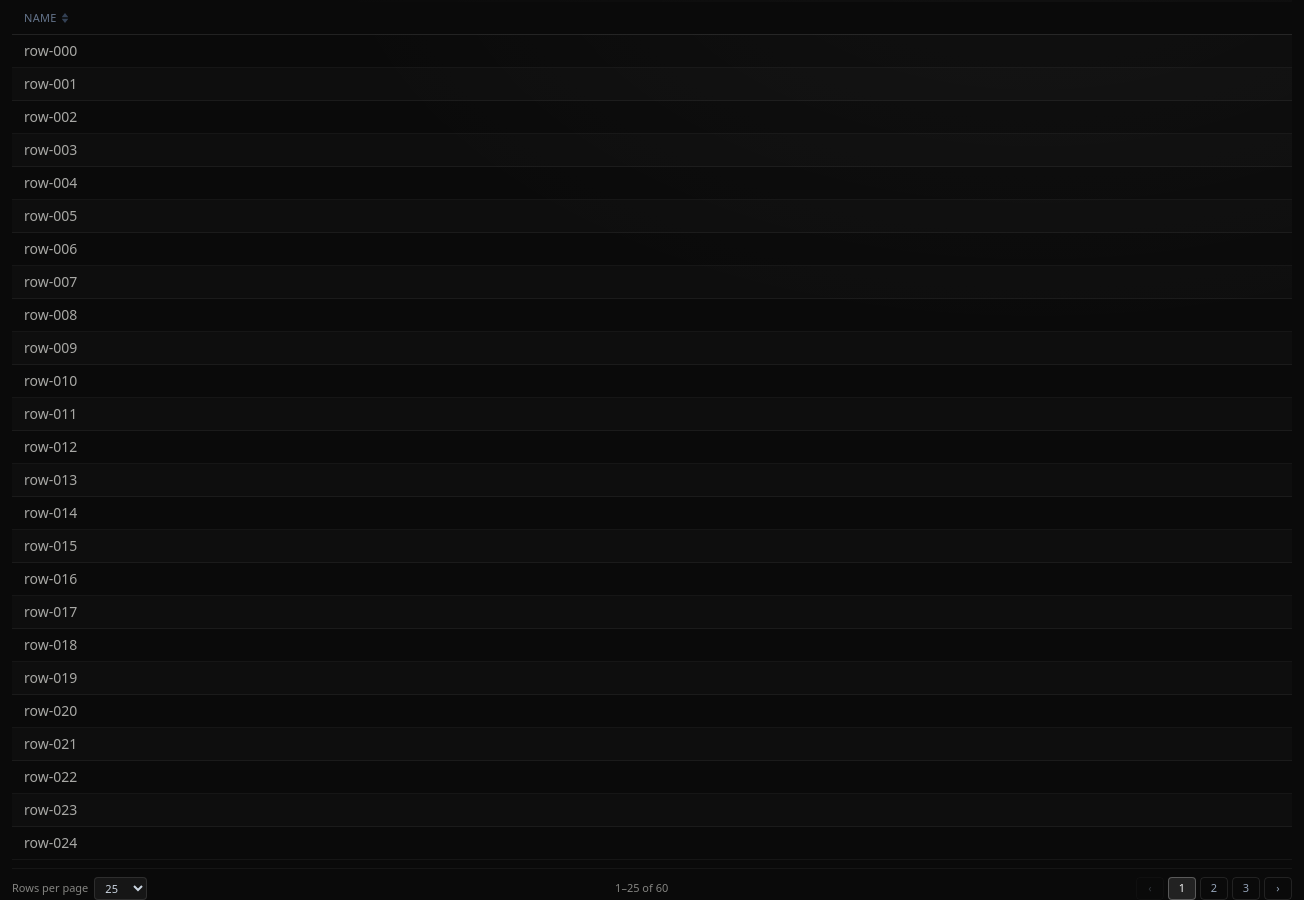
DataTable, pagination › changing rows-per-page returns to the first page
(page scrolled)
Click the button named "Next page" at {"x": 1278, "y": 889}, box top-left (1264, 877), bottom-right (1292, 899)
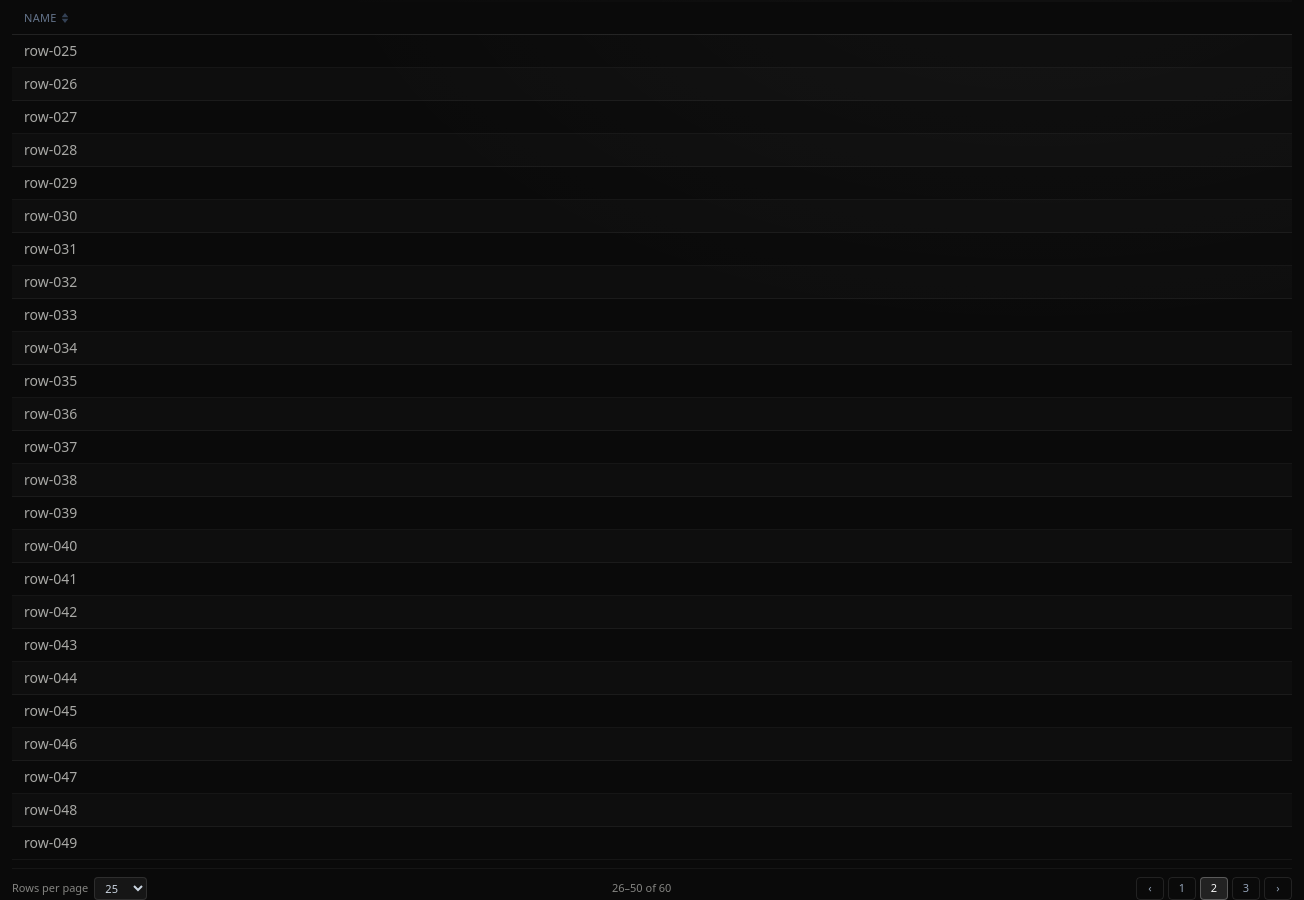
Check: the text "row-025" is shown, box top-left (24, 41), bottom-right (77, 60)
Select "50" in the dropdown labelled "Rows per page" at {"x": 121, "y": 888}, box top-left (94, 877), bottom-right (147, 899)
(page scrolled)
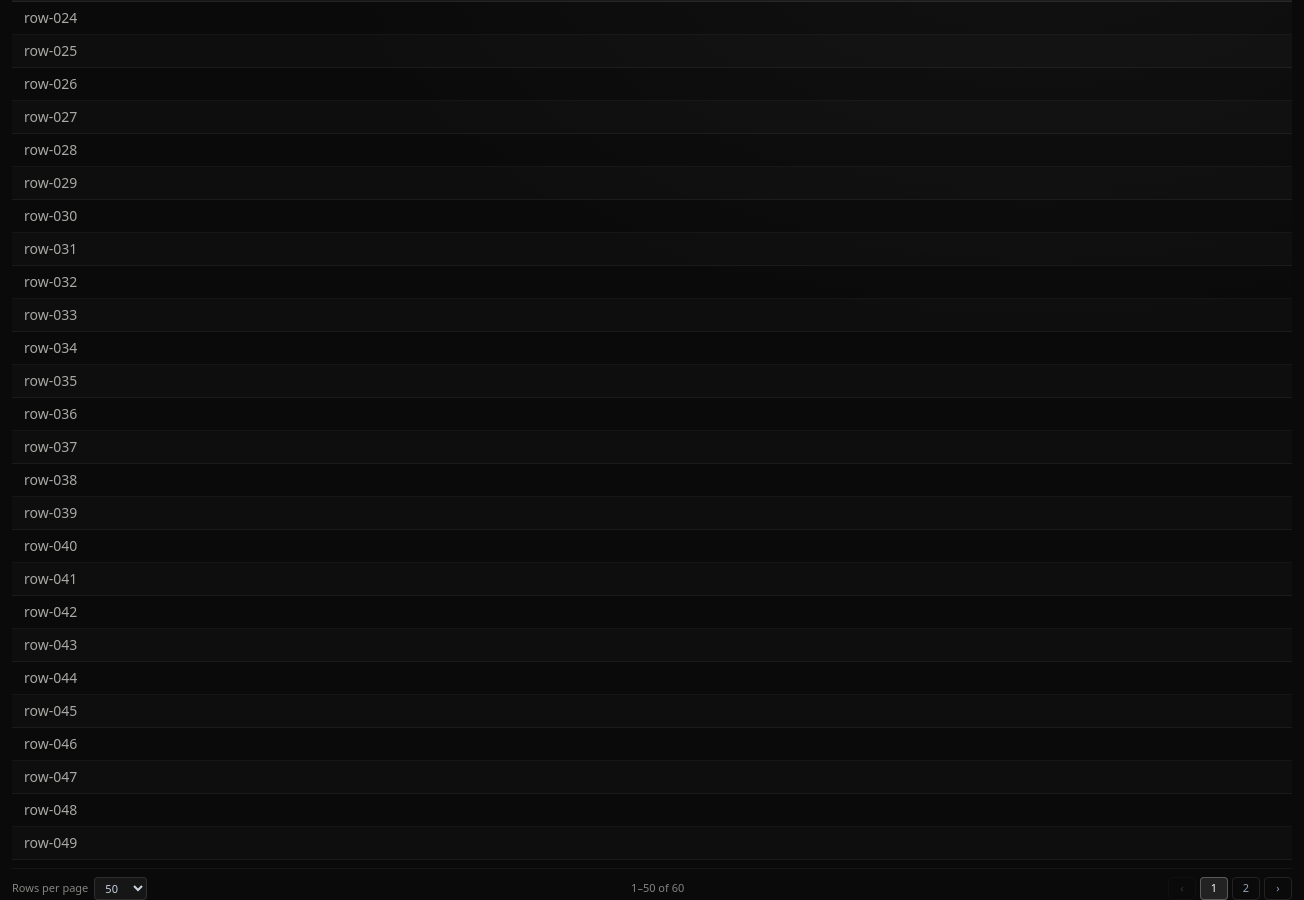
Check: the text "1–50 of 60" is shown, box top-left (631, 880), bottom-right (684, 897)
